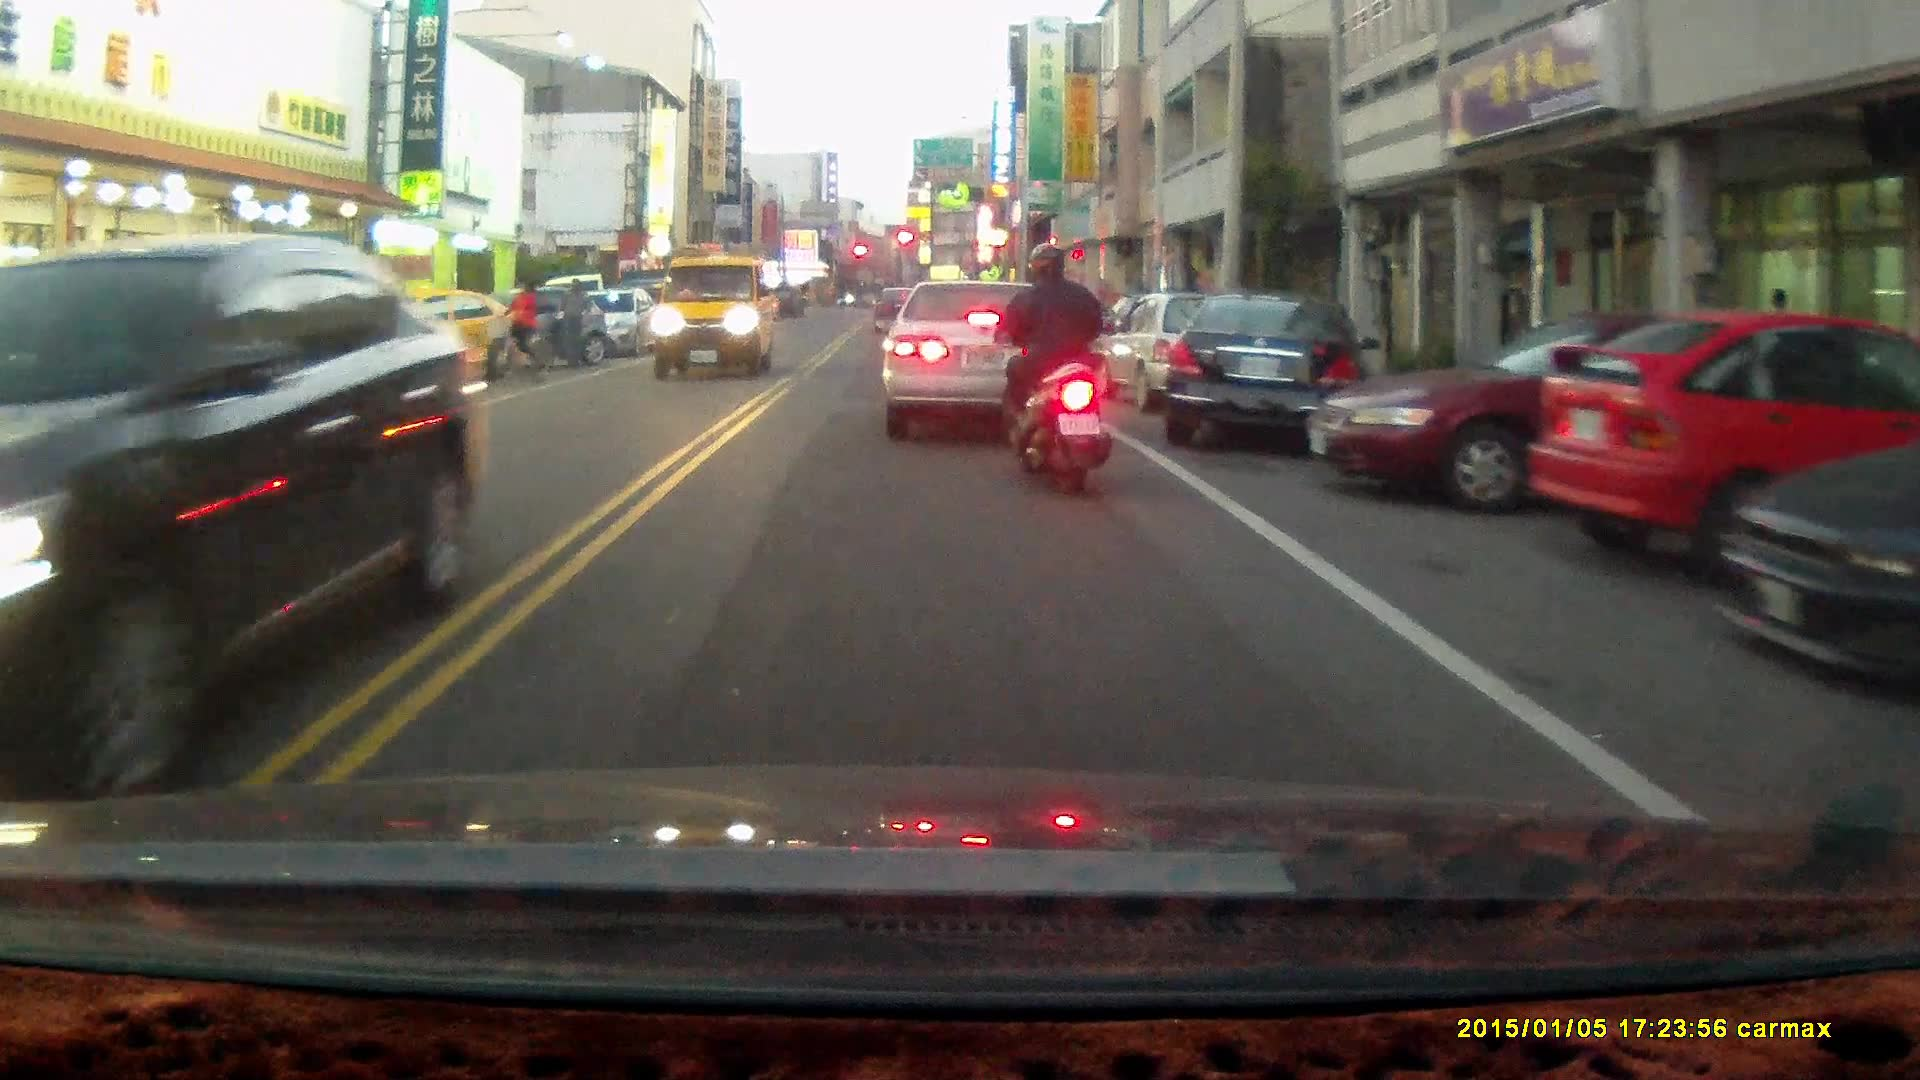pedestrian: (558, 278, 592, 373)
rider: (982, 242, 1119, 501), (485, 279, 555, 390)
vehicle: (1, 243, 469, 777), (1525, 309, 1920, 589), (1311, 308, 1780, 517), (1716, 375, 1920, 703), (1153, 292, 1362, 450), (881, 274, 1074, 429), (649, 252, 771, 382), (366, 290, 537, 384)
